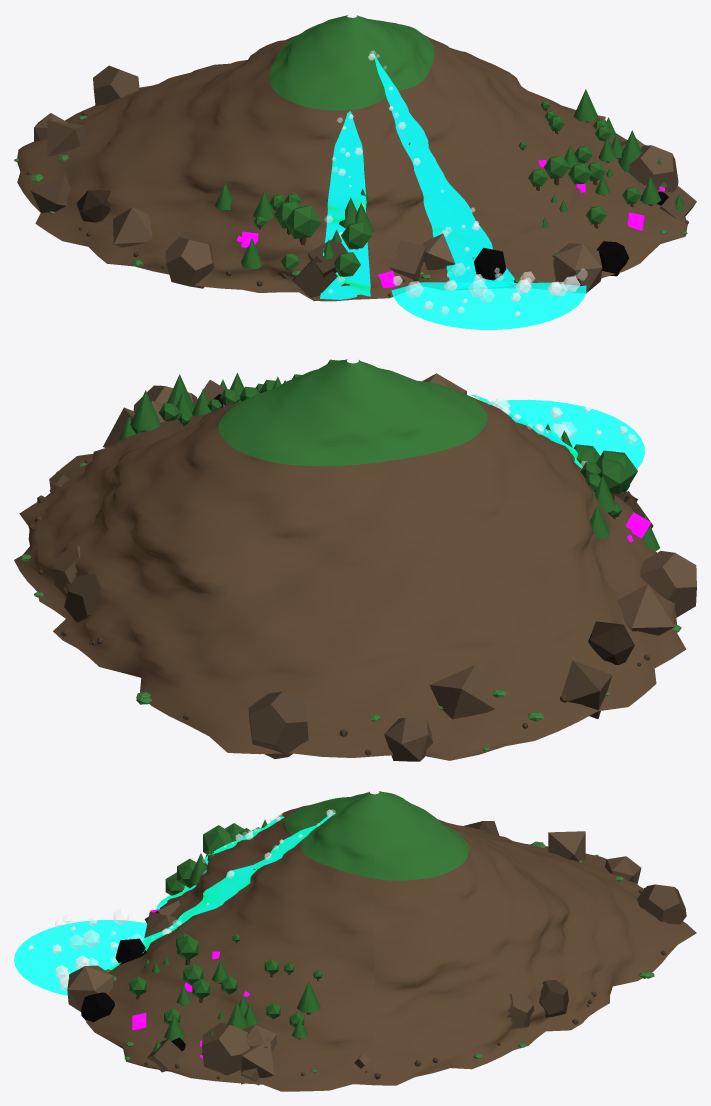
The model's file is montana_4.glb.
3 renders of one model, top to bottom at view 1: azimuth 30°, elevation 25°; view 2: azimuth 150°, elevation 25°; view 3: azimuth 270°, elevation 25°, orthographic. The views are drawn at different scales.
Parts seen in each view (by area): view 1: tierra, cima, rio (×2), poza_agua, copa (×4), roca_10, roca_19, roca_2, roca_17, roca_6, roca_8, roca_1 (+8 smaller); view 2: tierra, cima, poza_agua, roca_17, roca_10, roca_8, roca_6, roca_25, roca_18, roca_22, copa (×2), roca_7 (+1 smaller); view 3: tierra, cima, poza_agua, rio (×2), roca_2, roca_17, roca_19, roca_8, roca_7, roca_16, roca_11, roca_21 (+6 smaller).
Boxes of the visible parts, x1,y1,x2,y2 form: tierra: (17,22,687,301); cima: (270,15,434,110); rio (×2): (320,53,514,299); poza_agua: (391,282,586,329); copa (×4): (285,130,641,276); roca_10: (165,236,214,288); roca_19: (553,243,602,293); roca_2: (627,145,678,192); roca_17: (93,65,139,106); roca_6: (113,207,152,247); roca_8: (47,120,85,156); roca_1: (389,240,426,283); tierra: (14,395,686,760); cima: (218,359,487,466); poza_agua: (491,399,644,469); roca_17: (248,691,308,758); roca_10: (640,551,696,617); roca_8: (430,665,494,719); roca_6: (617,584,674,635); roca_25: (561,660,612,718); roca_18: (384,718,432,761); roca_22: (588,621,634,664); copa (×2): (130,390,630,493); roca_7: (64,573,101,622); tierra: (86,805,696,1091); cima: (284,791,469,880); poza_agua: (14,920,146,995); rio (×2): (109,812,335,970); roca_2: (202,1022,250,1075); roca_17: (637,884,686,924); roca_19: (67,965,113,1011); roca_8: (548,831,585,861); roca_7: (539,979,568,1017); roca_16: (240,1039,273,1084); roca_11: (81,992,114,1022); roca_21: (506,992,534,1028).
Bounding box in the file's own units: 31.81 × 10.77 × 35.99.
